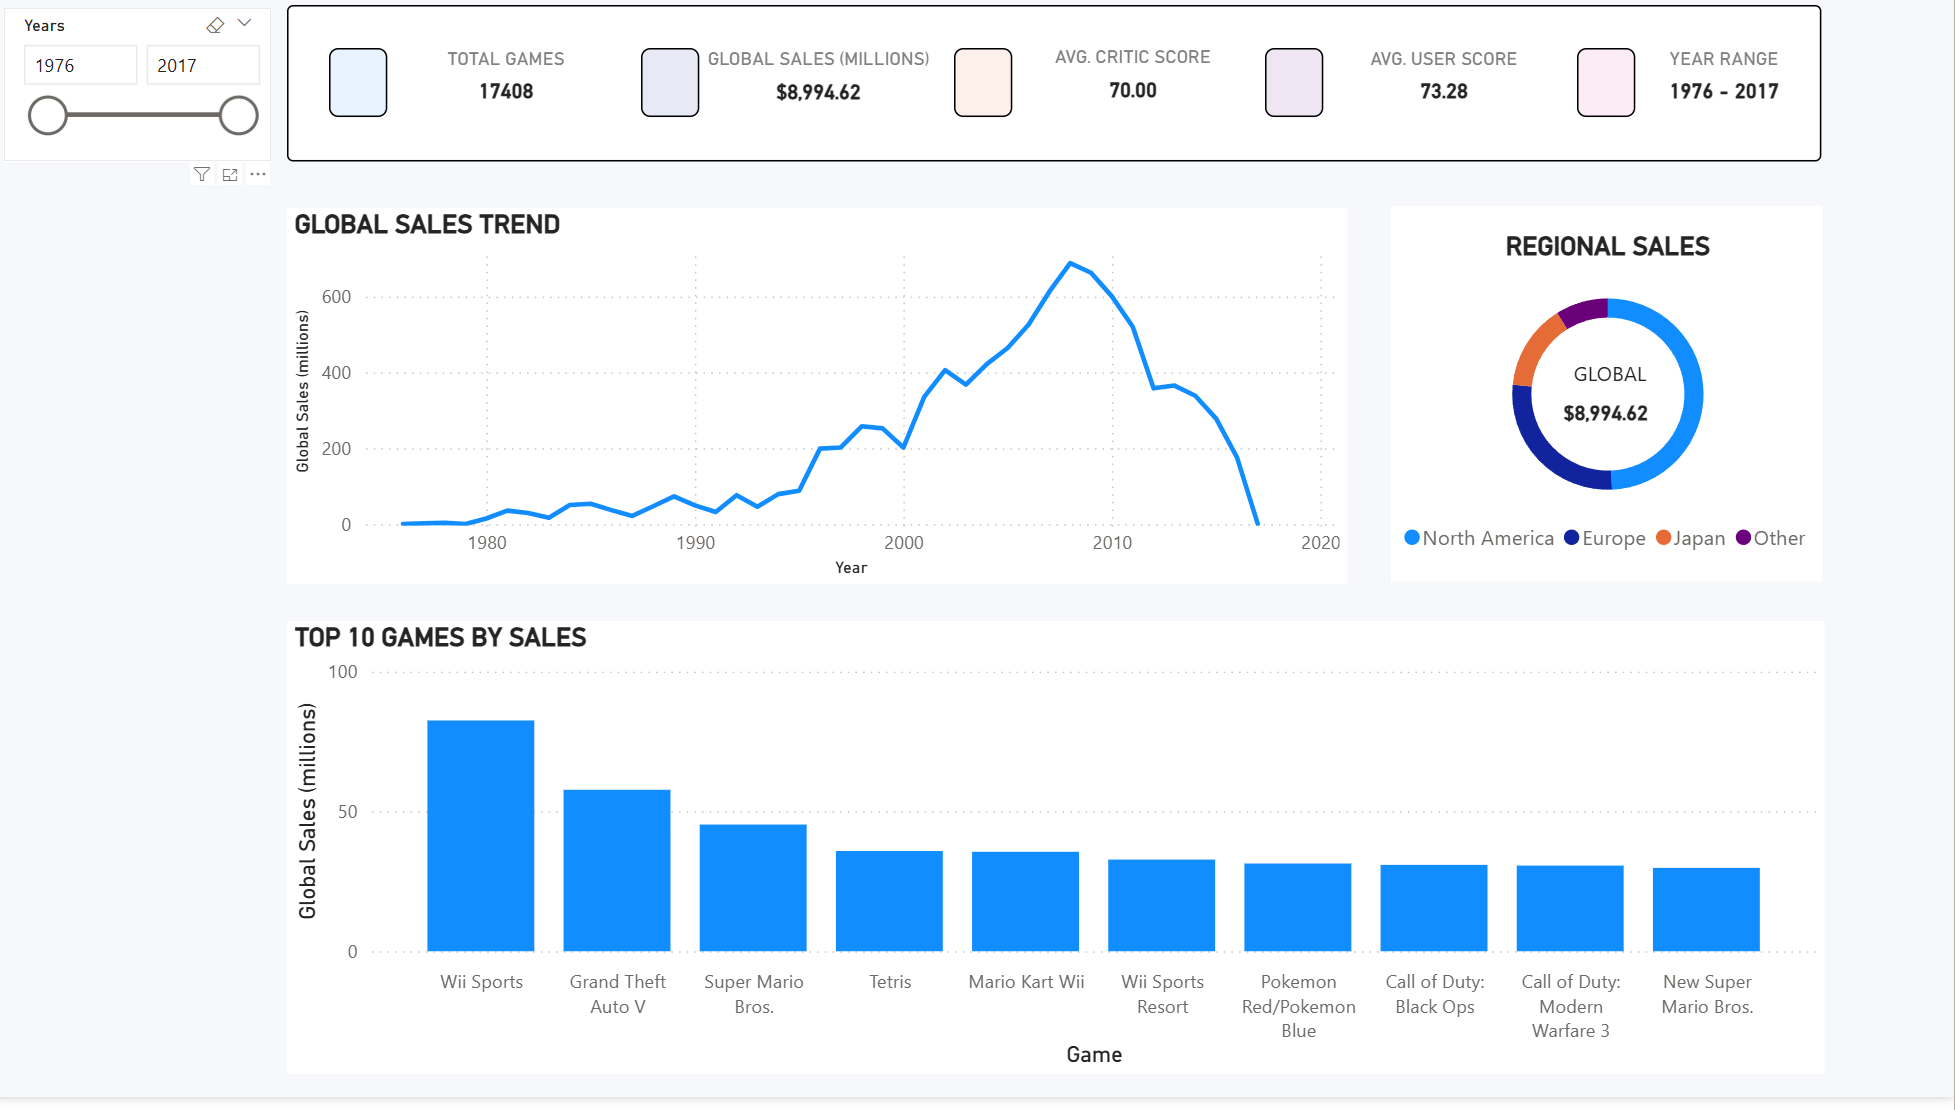

The dashboard page shown, as its layout file describes it:
{"tool":"powerbi","page":{"name":"Summary Dashboard","canvas":[1280,720],"ordinal":0},"visuals":[{"type":"group","id":"g1","title":"KPI","box":[193.6,8.5,999.8,101.7],"z":0},{"type":"basicShape","box":[193.6,8.5,999.8,101.7],"z":0,"group":"g1"},{"type":"basicShape","box":[912.9,139.3,280.7,245.4],"z":0,"group":"g2"},{"type":"card","title":"TOTAL GAMES","fields":{"Values":["vgames_cleaned.Total Games"]},"box":[264.6,36.5,143.4,45.6],"z":1000},{"type":"card","title":"GLOBAL SALES (MILLIONS)","fields":{"Values":["Sum(vgames_cleaned.Global_Sales)"]},"box":[462.7,36.5,154.5,46.3],"z":2000},{"type":"card","title":"AVG. CRITIC SCORE","fields":{"Values":["vgames_cleaned.Average Critic Score"]},"box":[666.7,35.2,156.4,46.3],"z":3000},{"type":"textbox","box":[1013.3,234.2,85.1,29.4],"z":3000,"group":"g2"},{"type":"card","title":"AVG. USER SCORE","fields":{"Values":["vgames_cleaned.Average User Score"]},"box":[869.4,36.5,156.4,45.6],"z":4000},{"type":"card","fields":{"Values":["Sum(vgames_cleaned.Global_Sales)"]},"box":[1003.1,259.4,100,21.8],"z":4000,"group":"g2"},{"type":"card","title":"YEAR RANGE","fields":{"Values":["vgames_cleaned.Year Range"]},"box":[1072.7,36.5,114.7,45.6],"z":5000},{"type":"donutChart","title":"REGIONAL SALES","fields":{"Y":["Sum(vgames_cleaned.NA_Sales)","Sum(vgames_cleaned.EU_Sales)","Sum(vgames_cleaned.JP_Sales)","Sum(vgames_cleaned.Other_Sales)"]},"box":[913.6,155,281.4,219.2],"z":5000,"group":"g2"},{"type":"group","id":"g2","title":"Donut","box":[912.9,139.3,282,245.7],"z":6000},{"type":"columnChart","title":"TOP 10 GAMES BY SALES","fields":{"Category":["vgames_cleaned.Name"],"Y":["Sum(vgames_cleaned.Global_Sales)"]},"box":[193.6,409.9,1001.7,295.2],"z":7000},{"type":"lineChart","title":"GLOBAL SALES TREND","fields":{"Category":["vgames_cleaned.Year_of_Release"],"Y":["Sum(vgames_cleaned.Global_Sales)"]},"box":[193.6,140.8,691.5,245.1],"z":9000},{"type":"slicer","fields":{"Values":["vgames_cleaned.Year_of_Release"]},"box":[9.1,10.4,174,99.7],"z":10000},{"type":"basicShape","box":[221.1,36.5,38.2,44.9],"z":11000,"group":"g1"},{"type":"basicShape","box":[424.1,36.5,38.2,44.9],"z":12000,"group":"g1"},{"type":"basicShape","box":[628.2,36.4,38.2,44.9],"z":13000,"group":"g1"},{"type":"basicShape","box":[830.9,36.4,38.2,44.9],"z":14000,"group":"g1"},{"type":"basicShape","box":[1034.4,36.4,38.2,44.9],"z":15000,"group":"g1"}]}

Visuals, with their boxes on the page's 1280x720 design canvas (x1, y1, x2, y2). These are canvas units, not pixel positions in the 1955x1110 screenshot, which may show the page scaled, cropped or inside an application window:
"KPI" group: {"x1": 194, "y1": 8, "x2": 1193, "y2": 110}
basicShape: {"x1": 194, "y1": 8, "x2": 1193, "y2": 110}
basicShape: {"x1": 913, "y1": 139, "x2": 1194, "y2": 385}
"TOTAL GAMES" card: {"x1": 265, "y1": 36, "x2": 408, "y2": 82}
"GLOBAL SALES (MILLIONS)" card: {"x1": 463, "y1": 36, "x2": 617, "y2": 83}
"AVG. CRITIC SCORE" card: {"x1": 667, "y1": 35, "x2": 823, "y2": 82}
textbox: {"x1": 1013, "y1": 234, "x2": 1098, "y2": 264}
"AVG. USER SCORE" card: {"x1": 869, "y1": 36, "x2": 1026, "y2": 82}
card - Sum(vgames_cleaned.Global_Sales): {"x1": 1003, "y1": 259, "x2": 1103, "y2": 281}
"YEAR RANGE" card: {"x1": 1073, "y1": 36, "x2": 1187, "y2": 82}
"REGIONAL SALES" donutChart: {"x1": 914, "y1": 155, "x2": 1195, "y2": 374}
"Donut" group: {"x1": 913, "y1": 139, "x2": 1195, "y2": 385}
"TOP 10 GAMES BY SALES" columnChart: {"x1": 194, "y1": 410, "x2": 1195, "y2": 705}
"GLOBAL SALES TREND" lineChart: {"x1": 194, "y1": 141, "x2": 885, "y2": 386}
slicer - vgames_cleaned.Year_of_Release: {"x1": 9, "y1": 10, "x2": 183, "y2": 110}
basicShape: {"x1": 221, "y1": 36, "x2": 259, "y2": 81}
basicShape: {"x1": 424, "y1": 36, "x2": 462, "y2": 81}
basicShape: {"x1": 628, "y1": 36, "x2": 666, "y2": 81}
basicShape: {"x1": 831, "y1": 36, "x2": 869, "y2": 81}
basicShape: {"x1": 1034, "y1": 36, "x2": 1073, "y2": 81}
